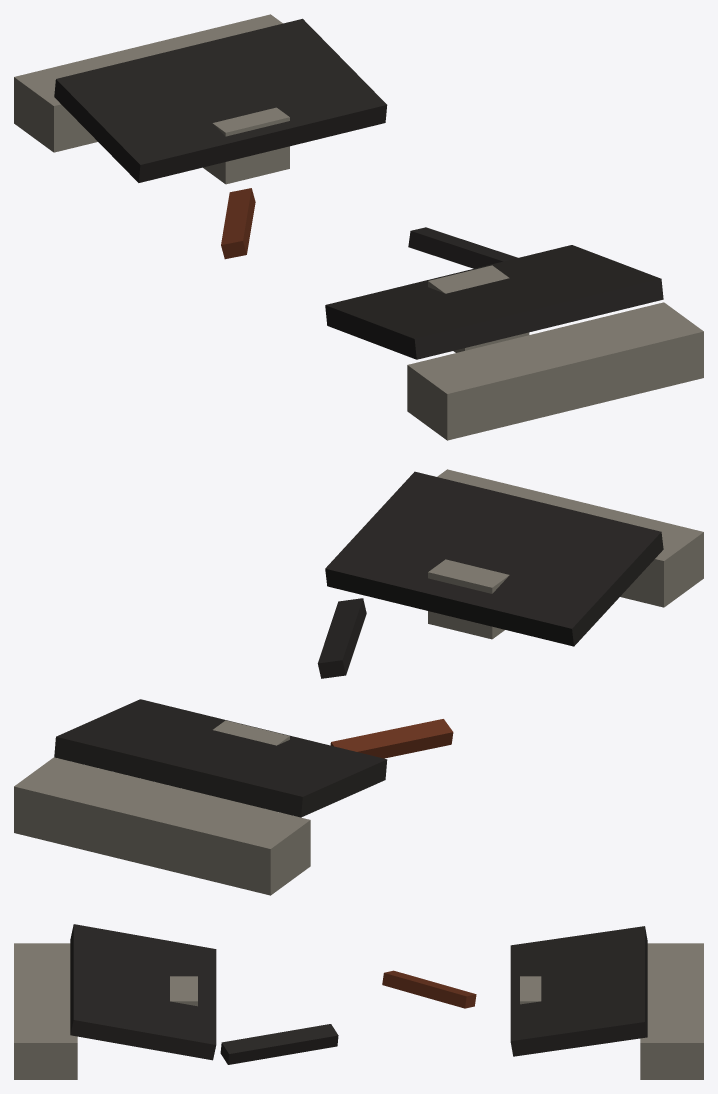
The model's file is RF_Prop_Bridge_Destroyed.glb.
3 views of the same model, one above another, from view 1: azimuth 30°, elevation 25°; view 2: azimuth 150°, elevation 25°; view 3: azimuth 270°, elevation 25° (orthographic). The views are drawn at different scales.
Parts seen in each view (by area): view 1: RF_Prop_Bridge_Destroyed; view 2: RF_Prop_Bridge_Destroyed; view 3: RF_Prop_Bridge_Destroyed.
Part boxes in pixels (box(x1,y1,x2,y2)): RF_Prop_Bridge_Destroyed: box(14, 14, 703, 440); RF_Prop_Bridge_Destroyed: box(14, 469, 703, 895); RF_Prop_Bridge_Destroyed: box(14, 924, 703, 1079).
Size of the model in its own units: 5.2 by 1.41 by 15.2.
